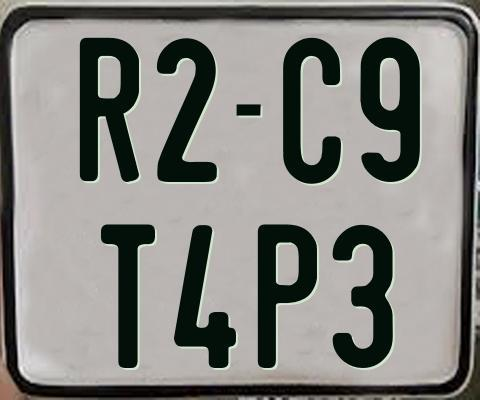2: (156, 37, 220, 187)
3: (329, 223, 390, 369)
4: (172, 222, 234, 366)
9: (357, 36, 421, 186)
C: (281, 36, 345, 182)
P: (258, 224, 321, 368)
R: (78, 37, 143, 186)
T: (100, 221, 155, 365)
